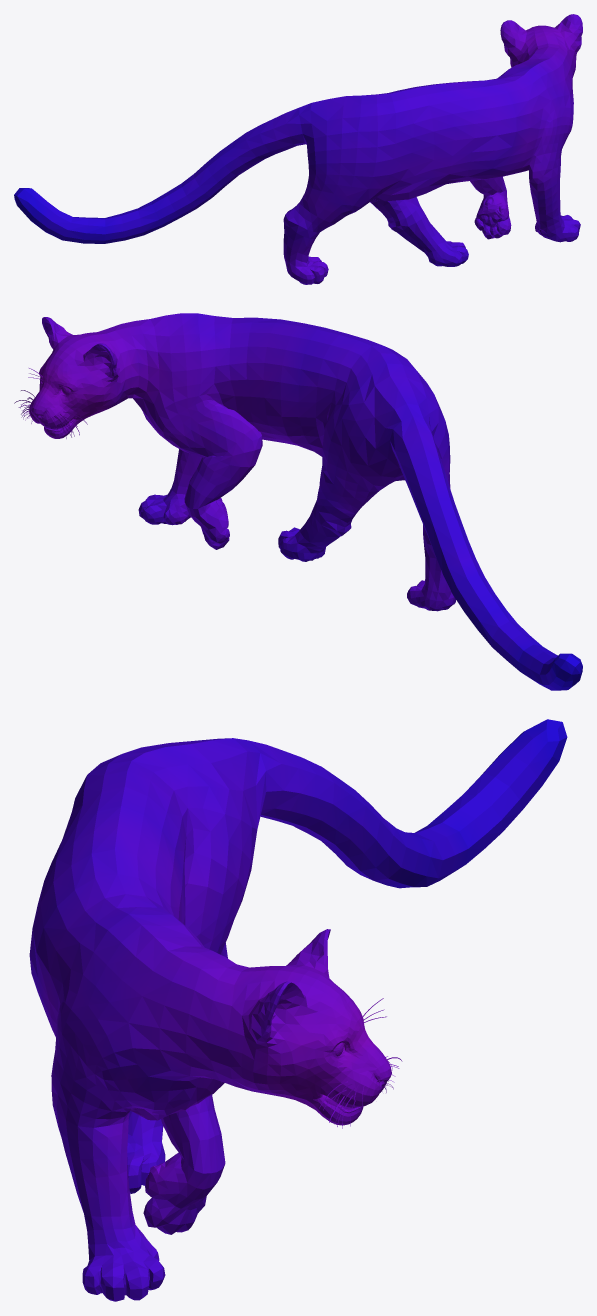
Rendered from leopard.gt.glb.
The picture shows the model from 3 angles, top to bottom: view 1: azimuth 30°, elevation 25°; view 2: azimuth 150°, elevation 25°; view 3: azimuth 270°, elevation 25°; orthographic projection. The views are drawn at different scales.
Size of the model in its own units: 0.5187 by 0.1801 by 0.2385.
